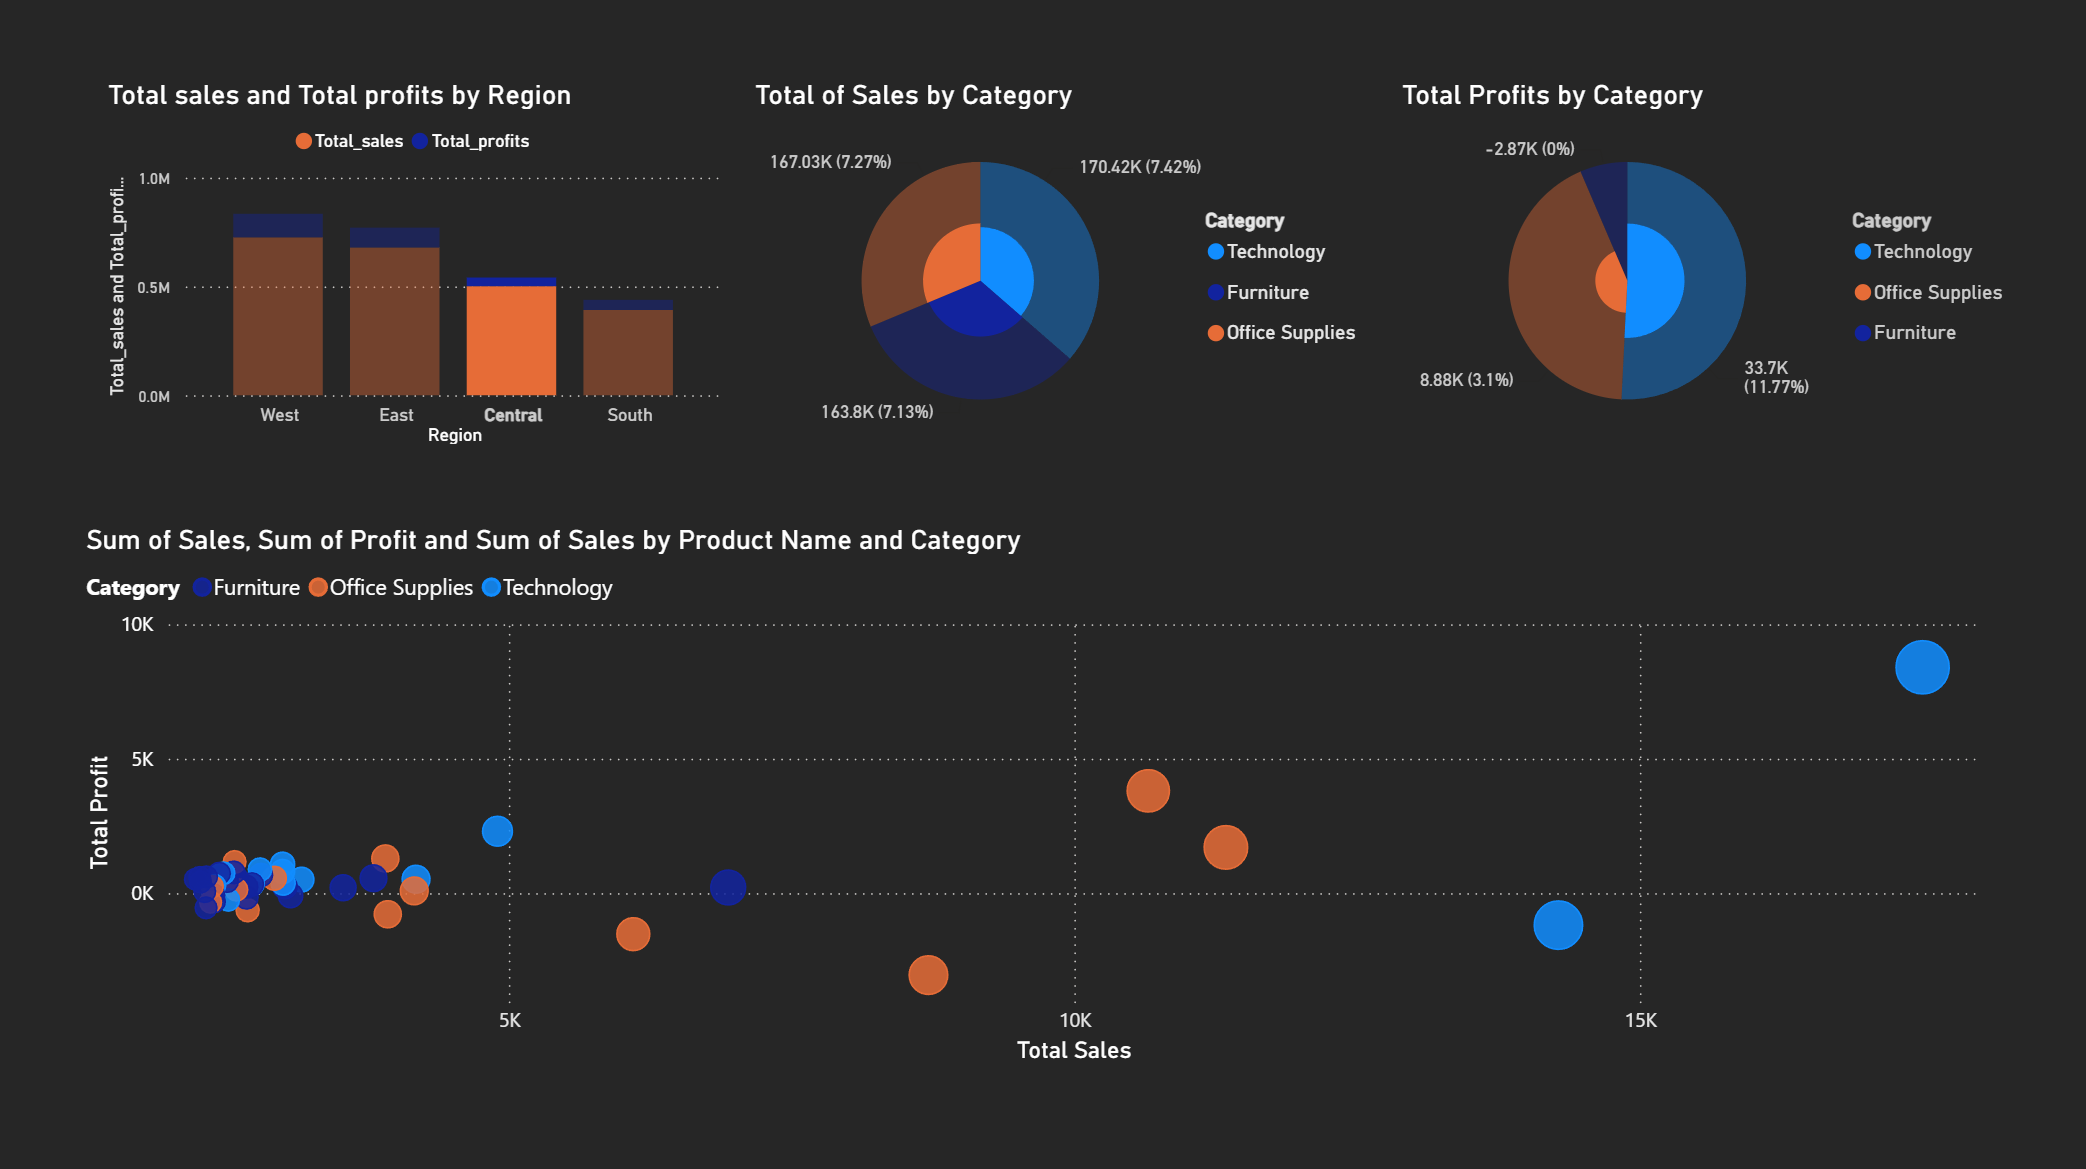

The page's visual inventory and layout, read from the dashboard file:
{"tool":"powerbi","page":{"name":"Region & Product Analysis","canvas":[1280,720],"ordinal":1},"visuals":[{"type":"columnChart","title":"Total sales and Total profits by Region","fields":{"Category":["Sample - Superstore.Region"],"Y":["Sample - Superstore.Total_sales","Sample - Superstore.Total_profits"]},"box":[63.7,50.3,386.7,229.2],"z":0},{"type":"scatterChart","fields":{"Category":["Sample - Superstore.Product Name"],"X":["Sum(Sample - Superstore.Sales)"],"Y":["Sum(Sample - Superstore.Profit)"],"Series":["Sample - Superstore.Category"],"Size":["Sum(Sample - Superstore.Sales)"]},"box":[50.3,322.3,1178.8,335.7],"z":1000},{"type":"pieChart","title":"Total of Sales by Category","fields":{"Y":["Sum(Sample - Superstore.Sales)"],"Category":["Sample - Superstore.Category"]},"box":[459.7,50.3,386.7,229.2],"z":2000},{"type":"pieChart","title":"Total Profits by Category","fields":{"Category":["Sample - Superstore.Category"],"Y":["Sum(Sample - Superstore.Profit)"]},"box":[855.8,50.3,386.7,229.2],"z":3000}]}

Visuals, with their boxes in screenshot pixels (x1, y1, x2, y2), scaled from the page's 1280x720 canvas onto the 2086x1169 screenshot:
"Total sales and Total profits by Region" columnChart: box(104, 82, 734, 454)
scatterChart - Sample - Superstore.Product Name x Sum(Sample - Superstore.Sales): box(82, 523, 2003, 1068)
"Total of Sales by Category" pieChart: box(749, 82, 1379, 454)
"Total Profits by Category" pieChart: box(1395, 82, 2025, 454)
